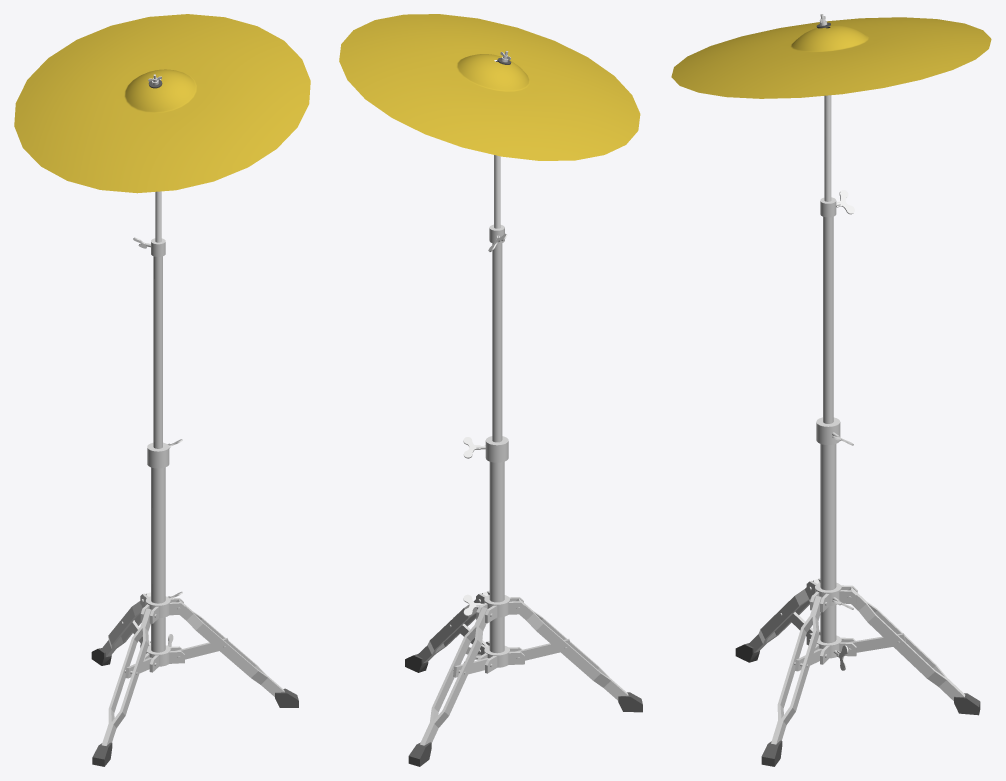
File: RightCrash.glb
3 views of the same model, side by side, from view 1: azimuth 30°, elevation 25°; view 2: azimuth 150°, elevation 25°; view 3: azimuth 270°, elevation 25° (orthographic). The views are drawn at different scales.
Visible parts, largest first — view 1: 3DGeom-189, 3DGeom-103 (×3), 3DGeom-193; view 2: 3DGeom-189, 3DGeom-103 (×3), 3DGeom-193; view 3: 3DGeom-189, 3DGeom-103 (×3), 3DGeom-193, 3DGeom-194.
Boxes of the visible parts, x1,y1,x2,y2 form: 3DGeom-189: (14,14,310,193); 3DGeom-103 (×3): (101,592,284,745); 3DGeom-193: (145,238,170,666); 3DGeom-189: (339,14,640,160); 3DGeom-103 (×3): (417,590,628,745); 3DGeom-193: (484,224,509,667); 3DGeom-189: (671,17,991,98); 3DGeom-103 (×3): (748,578,965,744); 3DGeom-193: (815,197,841,658); 3DGeom-194: (824,95,831,201).
Size of the model in its own units: 0.4648 by 1.12 by 0.4725.
